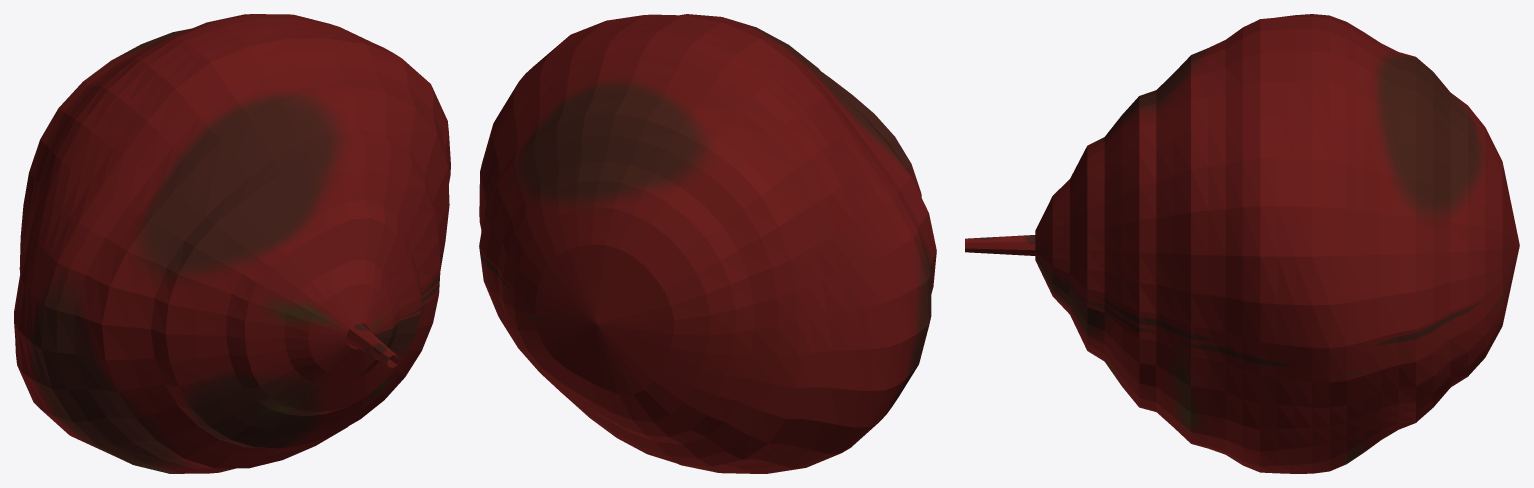
Rendered from apple_10_realistic.obj.
The picture shows the model from 3 angles, left to right: view 1: azimuth 30°, elevation 25°; view 2: azimuth 150°, elevation 25°; view 3: azimuth 270°, elevation 25°; orthographic projection. The views are drawn at different scales.
Size of the model in its own units: 2.03 by 1.97 by 2.29.
Materials: 1 (1 with a texture image).
